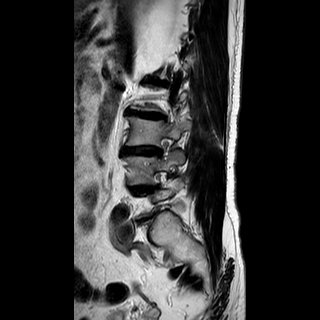LFS0: (150, 132, 174, 165)
